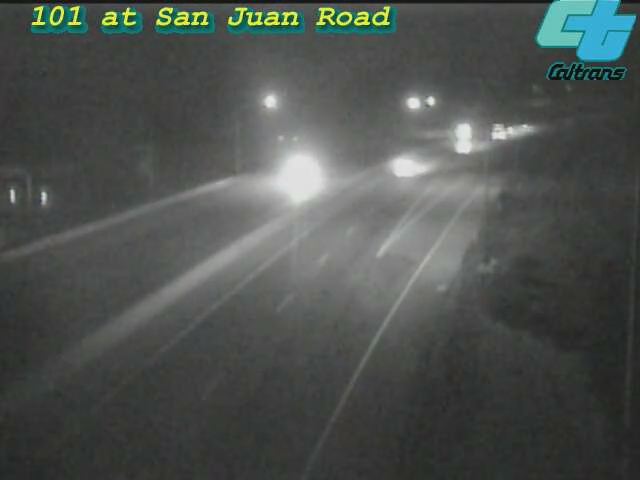vehicle: (256, 136, 336, 216), (368, 125, 448, 205), (439, 105, 489, 155), (503, 104, 553, 154), (479, 107, 529, 157), (442, 120, 492, 170)
